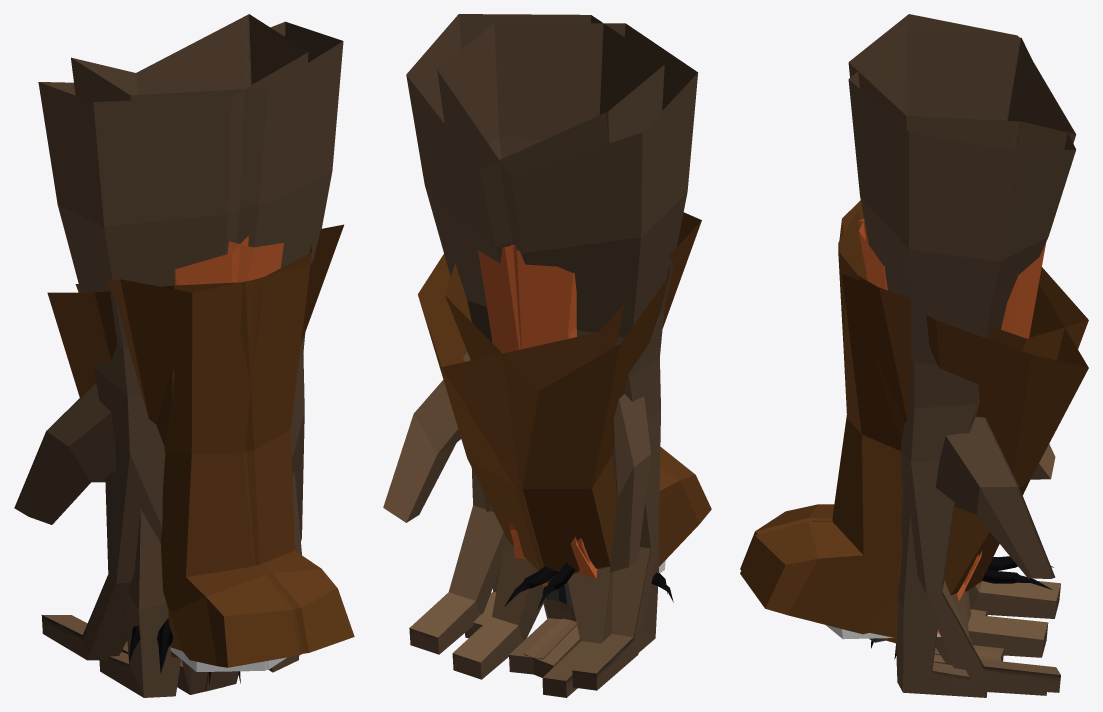
The model's file is Paws.fbx.
3 renders of one model, left to right at view 1: azimuth 30°, elevation 25°; view 2: azimuth 150°, elevation 25°; view 3: azimuth 270°, elevation 25°, orthographic. The views are drawn at different scales.
Visible parts, largest first — view 1: Paw_Monkey_R, Paw_Bear_L, Paw_Monkey_L, Paw_Bear_R, Paw_Tiger_R, Paw_Tiger_L; view 2: Paw_Monkey_R, Paw_Monkey_L, Paw_Bear_R, Paw_Bear_L, Paw_Tiger_L, Paw_Tiger_R, Paw_Crane_R, Paw_Crane_L; view 3: Paw_Monkey_L, Paw_Bear_R, Paw_Monkey_R, Paw_Bear_L, Paw_Tiger_R, Paw_Tiger_L, Paw_Crane_R.
Part boxes in pixels (box(x1,y1,x2,y2)): Paw_Monkey_R: box(38, 14, 308, 691); Paw_Bear_L: box(75, 245, 311, 667); Paw_Monkey_L: box(14, 21, 343, 697); Paw_Bear_R: box(47, 224, 354, 653); Paw_Tiger_R: box(170, 241, 283, 671); Paw_Tiger_L: box(174, 236, 286, 669); Paw_Monkey_R: box(383, 23, 698, 697); Paw_Monkey_L: box(406, 14, 664, 679); Paw_Bear_R: box(445, 264, 669, 580); Paw_Bear_L: box(418, 212, 711, 584); Paw_Tiger_L: box(491, 243, 589, 587); Paw_Tiger_R: box(478, 245, 665, 578); Paw_Crane_R: box(504, 566, 673, 606); Paw_Crane_L: box(537, 563, 667, 609); Paw_Monkey_L: box(848, 32, 1076, 695); Paw_Bear_R: box(740, 211, 1088, 643); Paw_Monkey_R: box(848, 14, 1076, 697); Paw_Bear_L: box(740, 200, 1088, 595); Paw_Tiger_R: box(859, 220, 1045, 584); Paw_Tiger_L: box(826, 219, 982, 639); Paw_Crane_R: box(871, 569, 1052, 648).
Bounding box in the file's own units: 29.57 × 69.42 × 36.19.
5 materials, 4 textured.
